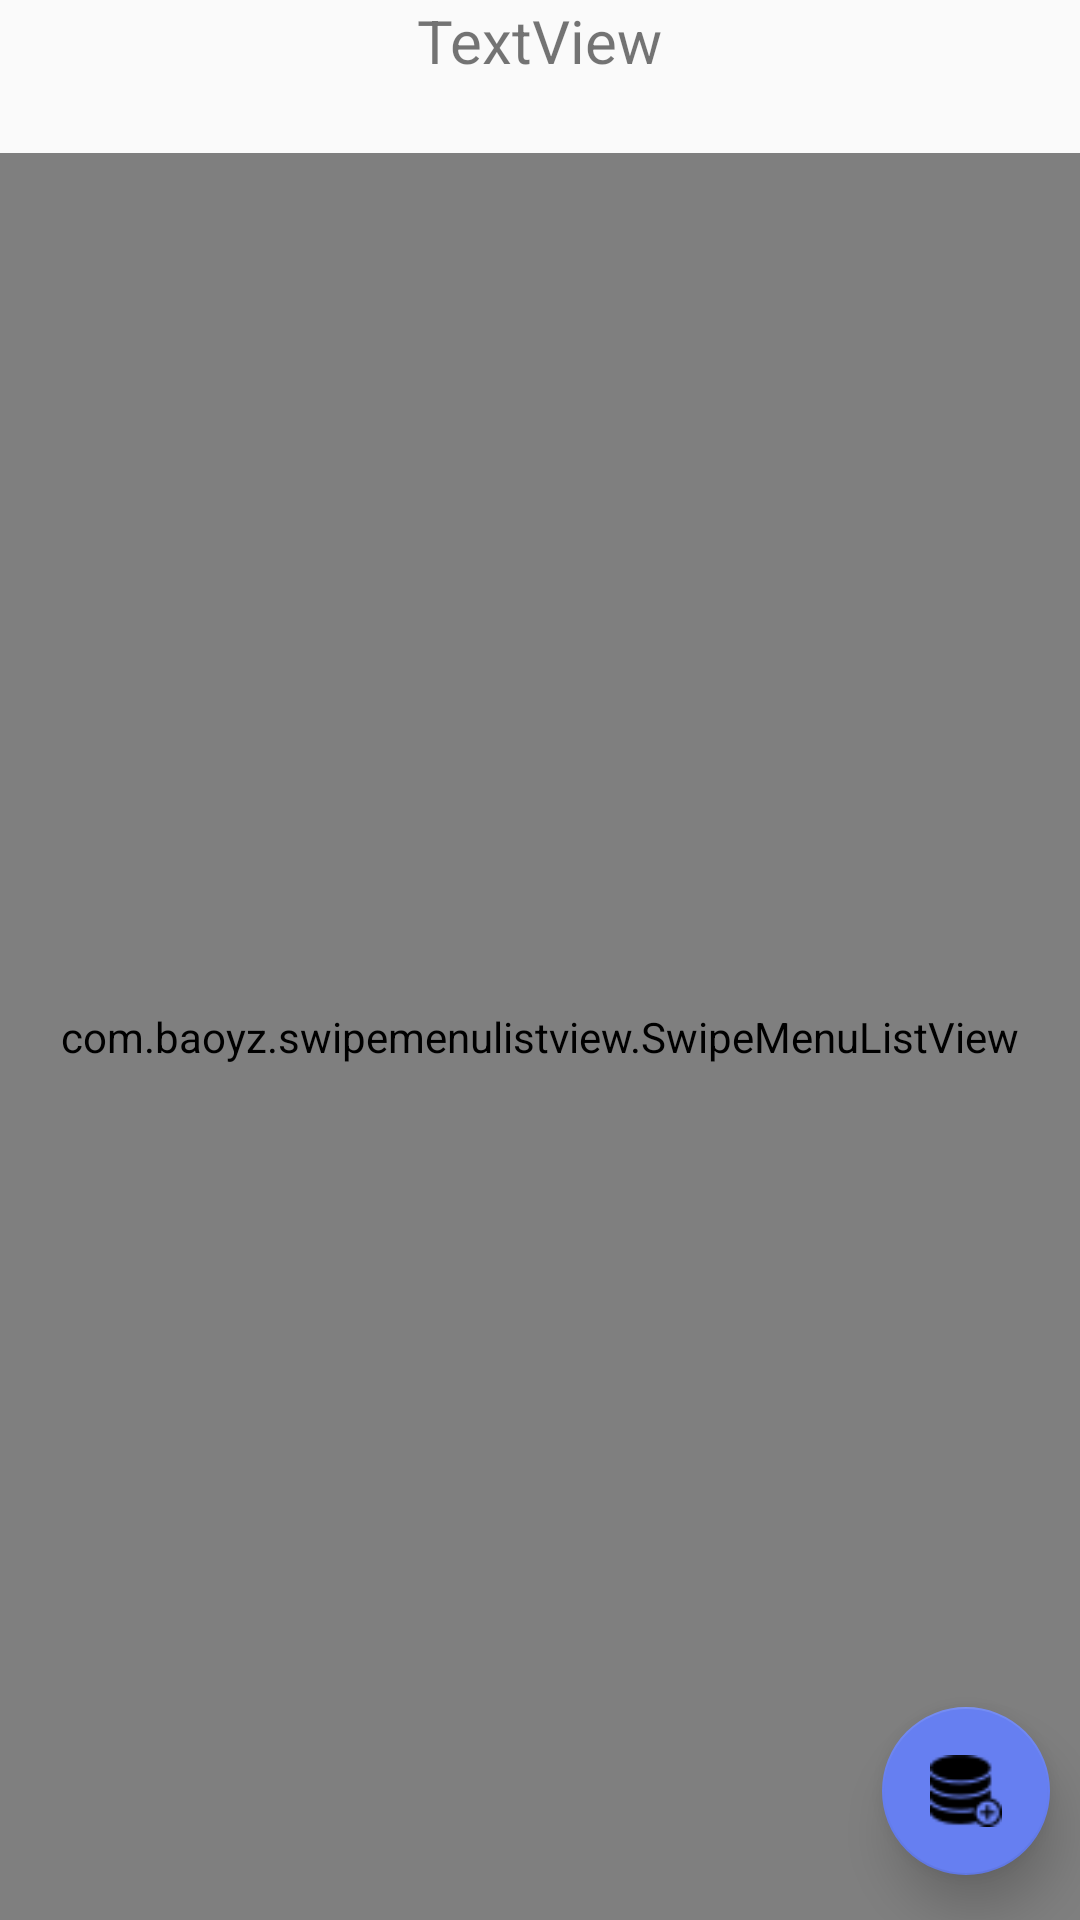

Screen size 1080 × 1920. Icon name, then its center in pixels as (x,y):
add: (966,1791)
